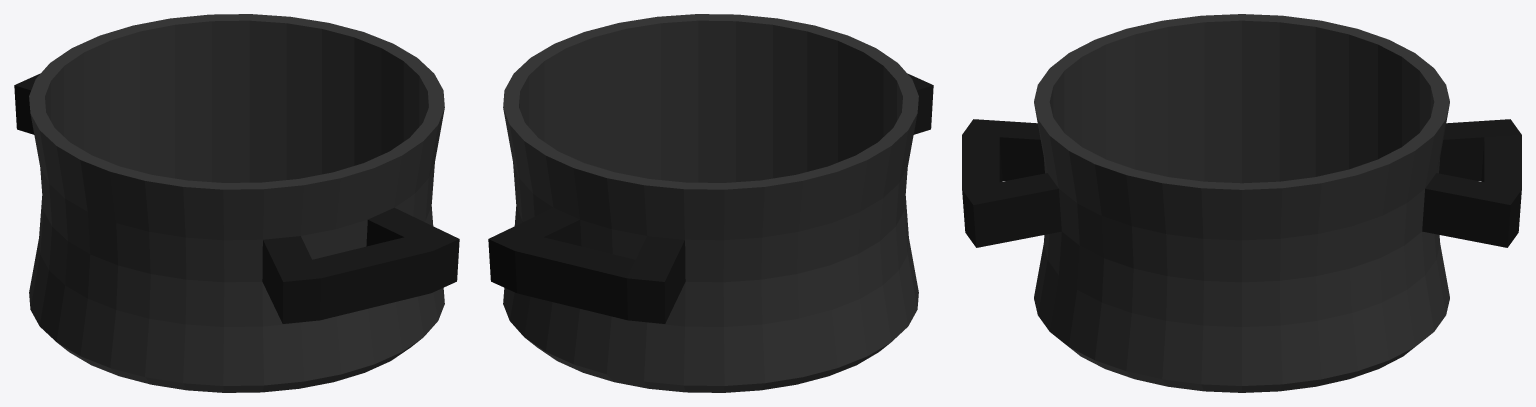
The model's file is Topf01.fbx.
3 renders of one model, left to right at view 1: azimuth 30°, elevation 25°; view 2: azimuth 150°, elevation 25°; view 3: azimuth 270°, elevation 25°, orthographic.
Visible parts, largest first — view 1: Cylinder; view 2: Cylinder; view 3: Cylinder.
Part boxes in pixels (x1,y1,x2,y2): Cylinder: (14, 14, 459, 392); Cylinder: (488, 14, 933, 392); Cylinder: (962, 14, 1521, 392).
Size of the model in its own units: 58.83 by 32.61 by 79.11.
